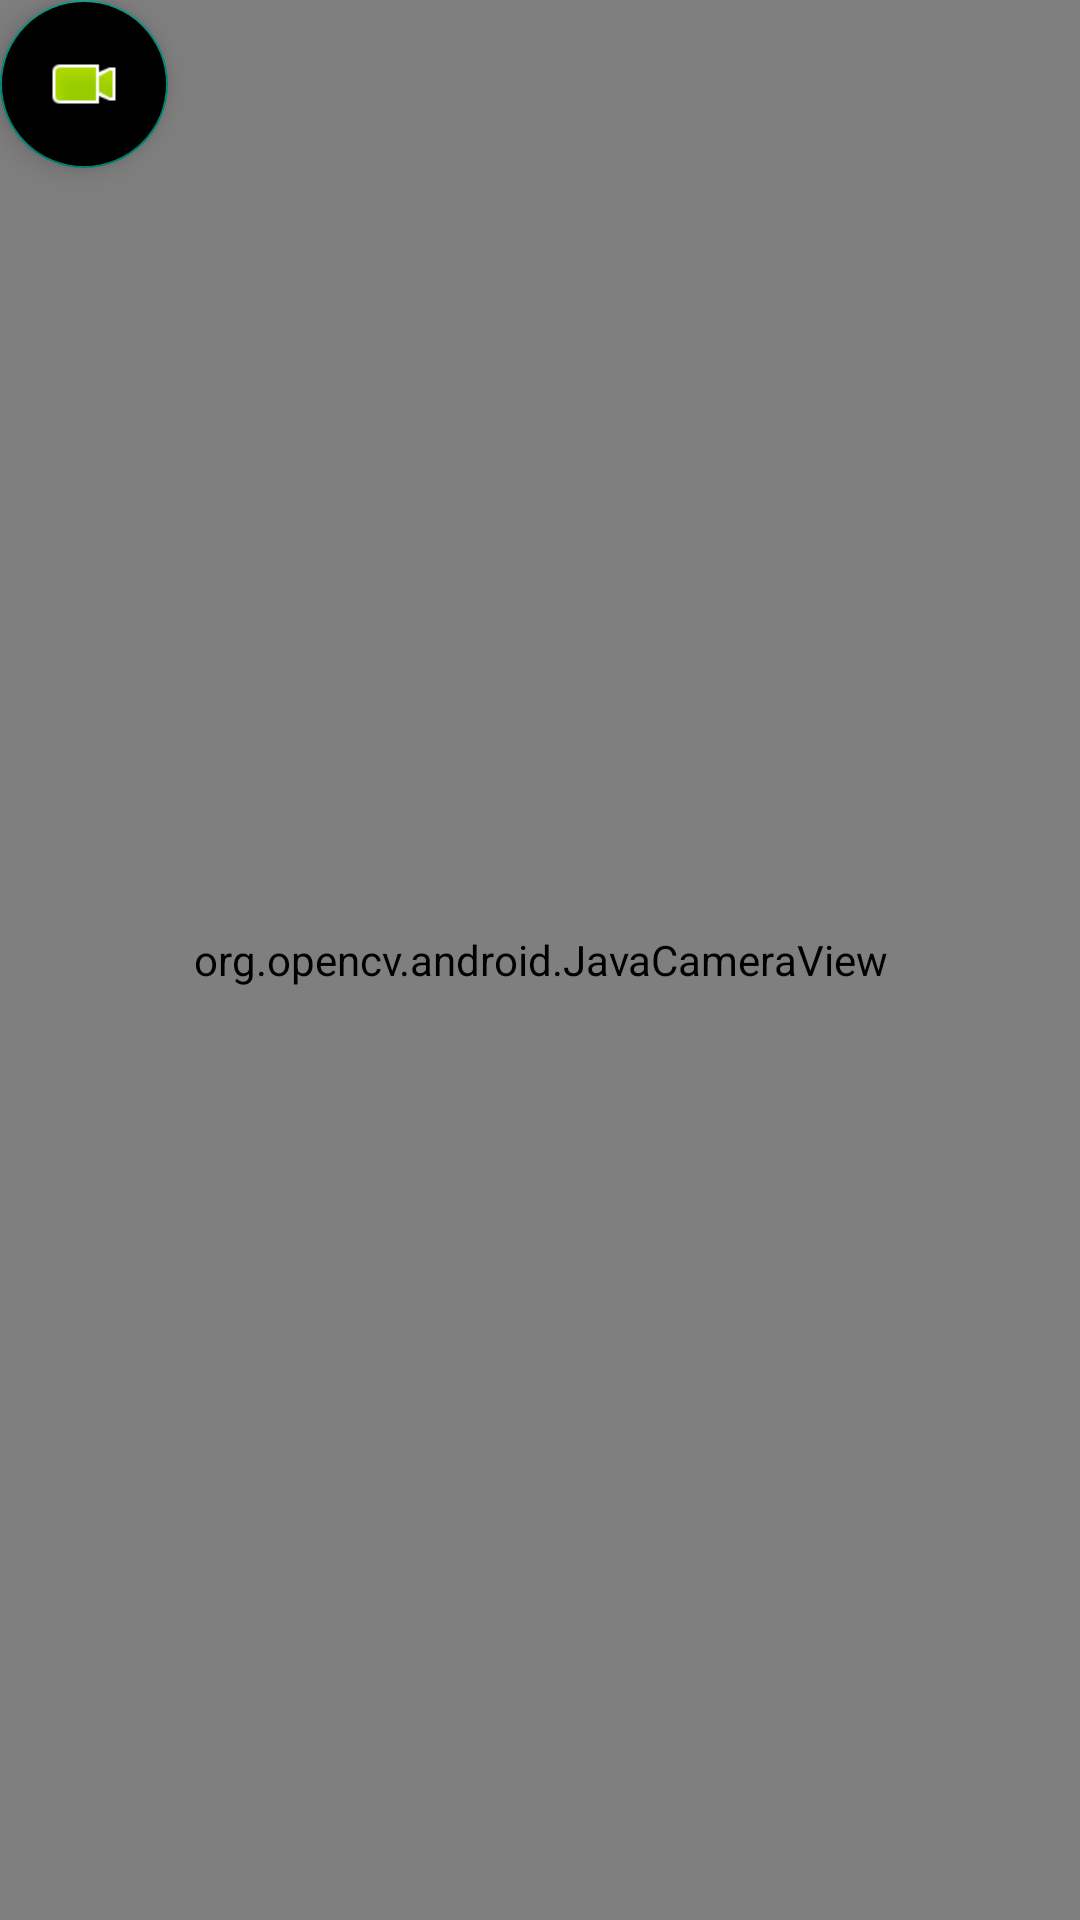

Icons on this 1080 × 1920 Android screen, each with its box as box(x1, y1, x2, y2):
presence video online: box(0, 0, 168, 168)
